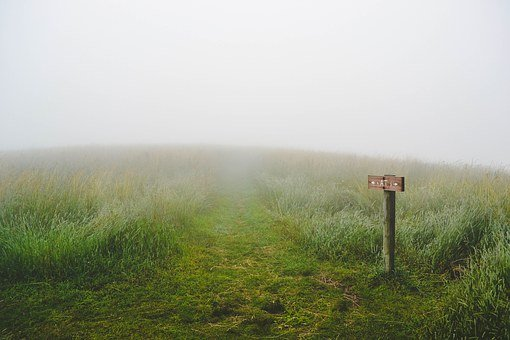field: (2, 143, 504, 340)
sky: (2, 3, 506, 143)
